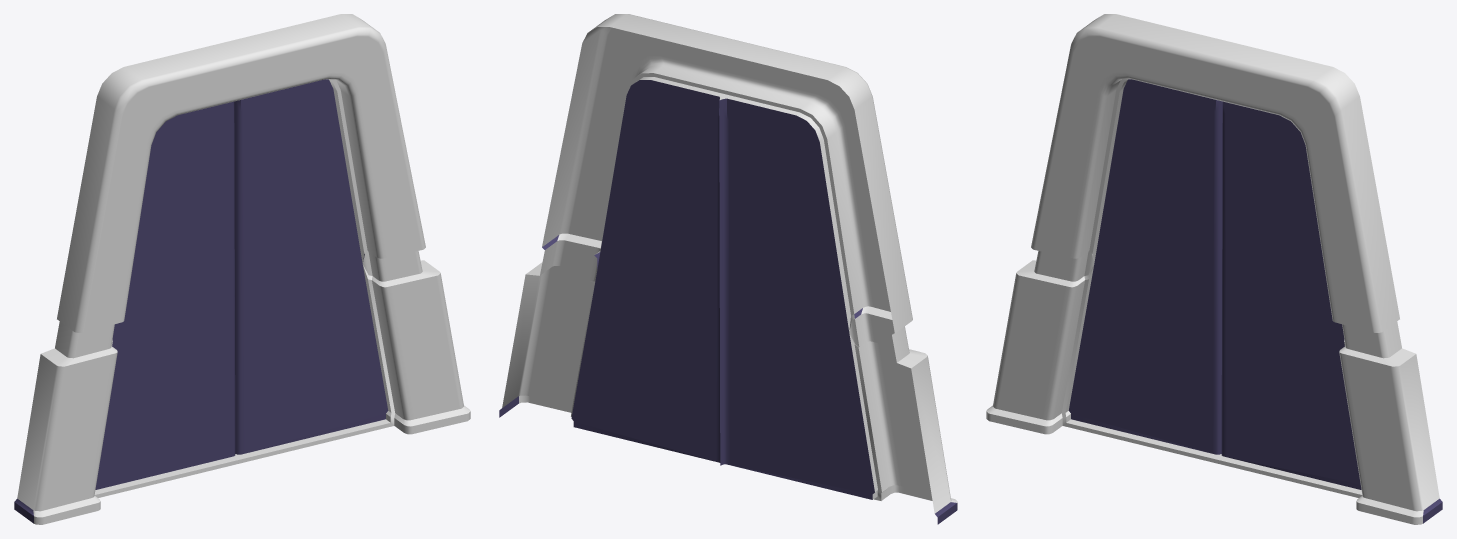
The model's file is Mh_MainDoor.fbx.
The picture shows the model from 3 angles, left to right: view 1: azimuth 30°, elevation 25°; view 2: azimuth 150°, elevation 25°; view 3: azimuth 330°, elevation 25°; orthographic projection.
Visible parts, largest first — view 1: Mh_MainDoor; view 2: Mh_MainDoor; view 3: Mh_MainDoor.
Boxes of the visible parts, left/top/right/bottom form: Mh_MainDoor: left=14, top=14, right=470, bottom=524; Mh_MainDoor: left=499, top=14, right=957, bottom=524; Mh_MainDoor: left=986, top=14, right=1442, bottom=524.
Bounding box in the file's own units: 321 × 292 × 29.18.
